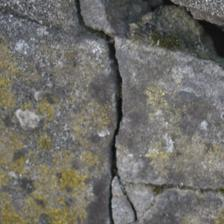Crack: (55, 24, 143, 222), (0, 10, 136, 58)
